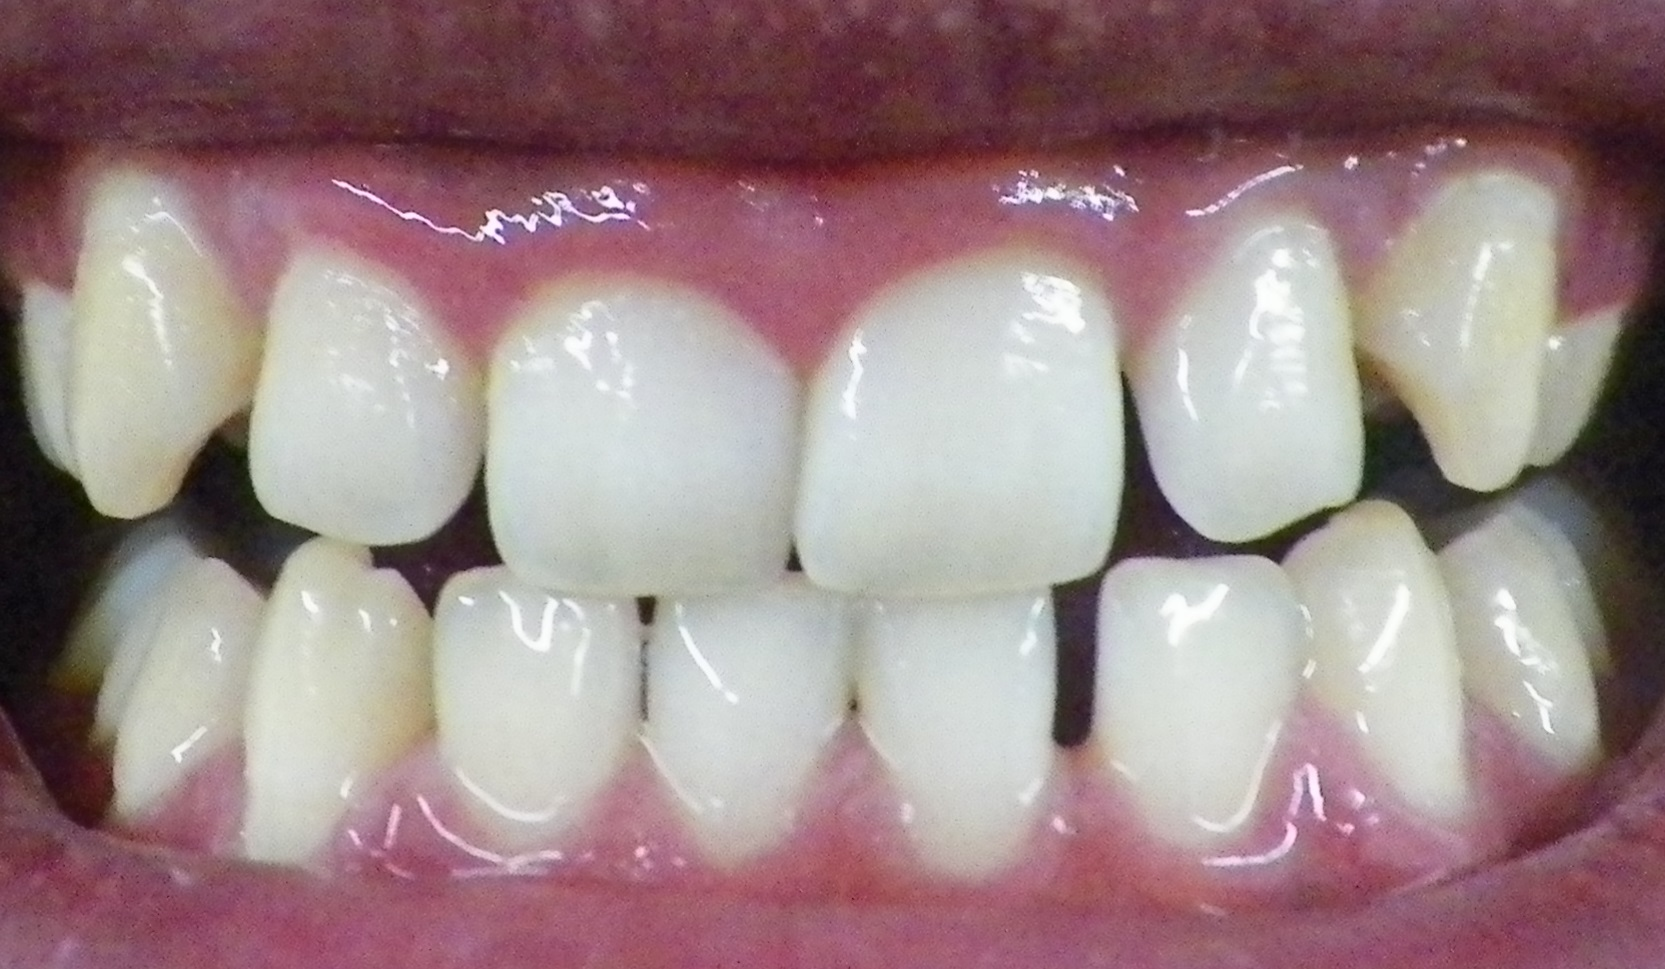boca: (28, 186, 1628, 855)
